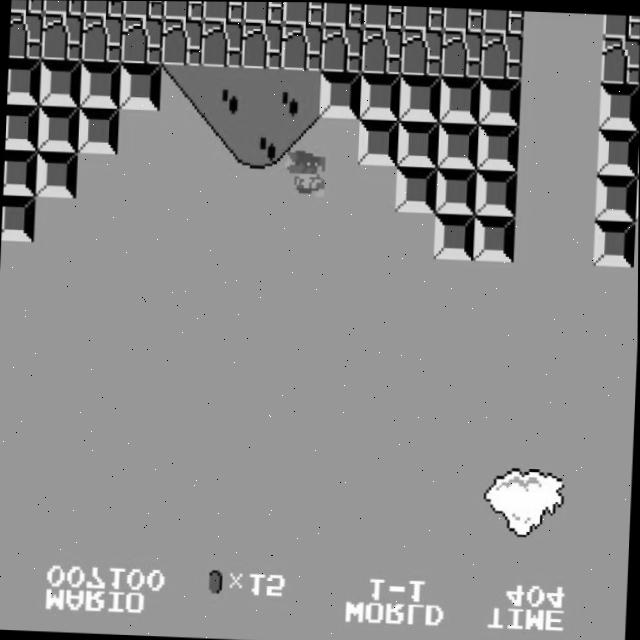11- little_mario: (280, 149, 325, 199)
17- undestructible_block: (80, 14, 123, 62), (240, 21, 283, 69), (320, 24, 363, 72), (40, 13, 83, 60), (120, 16, 163, 63), (160, 18, 203, 65), (200, 20, 243, 67), (280, 23, 323, 70), (360, 26, 403, 73), (400, 28, 443, 75), (440, 30, 483, 77), (480, 31, 523, 78), (600, 35, 640, 83), (8, 12, 42, 59), (402, 5, 444, 30), (482, 8, 524, 33), (322, 2, 364, 26), (362, 4, 404, 28), (442, 7, 484, 31), (242, 1, 284, 23), (282, 2, 324, 24), (602, 14, 640, 38), (202, 1, 244, 21), (162, 1, 204, 19), (122, 1, 164, 18), (82, 0, 124, 16), (42, 0, 84, 14), (10, 0, 43, 13)
9- hard_block: (78, 60, 122, 108), (318, 70, 362, 118), (38, 59, 82, 106), (118, 62, 162, 109), (358, 72, 402, 119), (398, 74, 442, 121), (438, 76, 482, 123), (472, 214, 516, 261), (478, 77, 522, 124), (592, 219, 636, 266), (397, 119, 440, 167), (477, 122, 520, 170), (596, 127, 639, 175), (394, 166, 438, 212), (434, 167, 478, 213), (474, 169, 518, 215), (594, 174, 638, 220), (37, 105, 80, 152), (77, 106, 120, 153), (357, 118, 400, 165), (433, 212, 476, 259), (437, 121, 480, 168), (598, 81, 640, 129), (35, 151, 78, 197), (6, 58, 41, 105), (1, 195, 35, 242), (3, 150, 37, 196), (5, 104, 39, 150), (635, 175, 639, 220), (637, 129, 639, 175)
